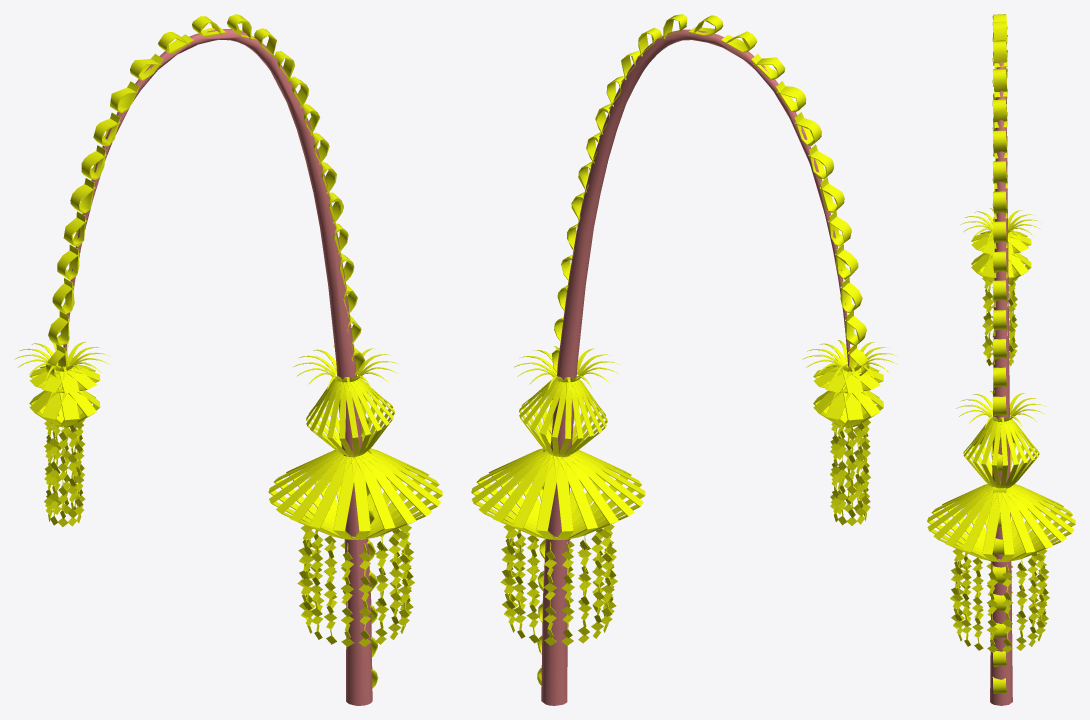
The model's file is penjor-low.glb.
The picture shows the model from 3 angles, left to right: view 1: azimuth 30°, elevation 25°; view 2: azimuth 150°, elevation 25°; view 3: azimuth 270°, elevation 25°; orthographic projection. The views are drawn at different scales.
Parts seen in each view (by area): view 1: Sweep_Mat_0, Cloner_Mat.1_0, Cloner_3_Mat.1_0, Null_Mat.1_0, Cloner_5_Mat.1_0, Cloner_4_Mat.1_0, Cloner_2_Mat.1_0, Cloner_1_Mat.1_0, Cloner_6_Mat.1_0, Cloner_7_Mat.1_0; view 2: Sweep_Mat_0, Cloner_3_Mat.1_0, Cloner_Mat.1_0, Null_Mat.1_0, Cloner_5_Mat.1_0, Cloner_4_Mat.1_0, Cloner_2_Mat.1_0, Cloner_1_Mat.1_0, Cloner_6_Mat.1_0, Cloner_7_Mat.1_0; view 3: Cloner_3_Mat.1_0, Cloner_Mat.1_0, Null_Mat.1_0, Sweep_Mat_0, Cloner_5_Mat.1_0, Cloner_4_Mat.1_0, Cloner_2_Mat.1_0, Cloner_1_Mat.1_0, Cloner_6_Mat.1_0, Cloner_7_Mat.1_0.
Part boxes in pixels (bbox=[...]): Sweep_Mat_0: bbox=[63, 29, 372, 705]; Cloner_Mat.1_0: bbox=[46, 14, 378, 688]; Cloner_3_Mat.1_0: bbox=[268, 448, 442, 539]; Null_Mat.1_0: bbox=[297, 525, 414, 646]; Cloner_5_Mat.1_0: bbox=[306, 377, 394, 456]; Cloner_4_Mat.1_0: bbox=[44, 414, 85, 526]; Cloner_2_Mat.1_0: bbox=[29, 383, 100, 427]; Cloner_1_Mat.1_0: bbox=[29, 364, 100, 393]; Cloner_6_Mat.1_0: bbox=[293, 345, 399, 390]; Cloner_7_Mat.1_0: bbox=[14, 341, 109, 380]; Sweep_Mat_0: bbox=[541, 29, 850, 705]; Cloner_3_Mat.1_0: bbox=[471, 448, 645, 539]; Cloner_Mat.1_0: bbox=[537, 14, 869, 685]; Null_Mat.1_0: bbox=[500, 510, 617, 645]; Cloner_5_Mat.1_0: bbox=[519, 377, 607, 456]; Cloner_4_Mat.1_0: bbox=[830, 413, 870, 525]; Cloner_2_Mat.1_0: bbox=[813, 383, 883, 427]; Cloner_1_Mat.1_0: bbox=[813, 364, 883, 393]; Cloner_6_Mat.1_0: bbox=[514, 346, 620, 391]; Cloner_7_Mat.1_0: bbox=[802, 340, 897, 380]; Cloner_3_Mat.1_0: bbox=[927, 484, 1075, 562]; Cloner_Mat.1_0: bbox=[992, 14, 1007, 693]; Null_Mat.1_0: bbox=[950, 549, 1049, 652]; Sweep_Mat_0: bbox=[990, 62, 1012, 705]; Cloner_5_Mat.1_0: bbox=[963, 417, 1039, 488]; Cloner_4_Mat.1_0: bbox=[982, 275, 1017, 366]; Cloner_2_Mat.1_0: bbox=[971, 253, 1031, 282]; Cloner_1_Mat.1_0: bbox=[971, 230, 1031, 254]; Cloner_6_Mat.1_0: bbox=[956, 391, 1046, 428]; Cloner_7_Mat.1_0: bbox=[960, 208, 1041, 242].
Bounding box in the file's own units: 0.596 × 1 × 0.2196.
